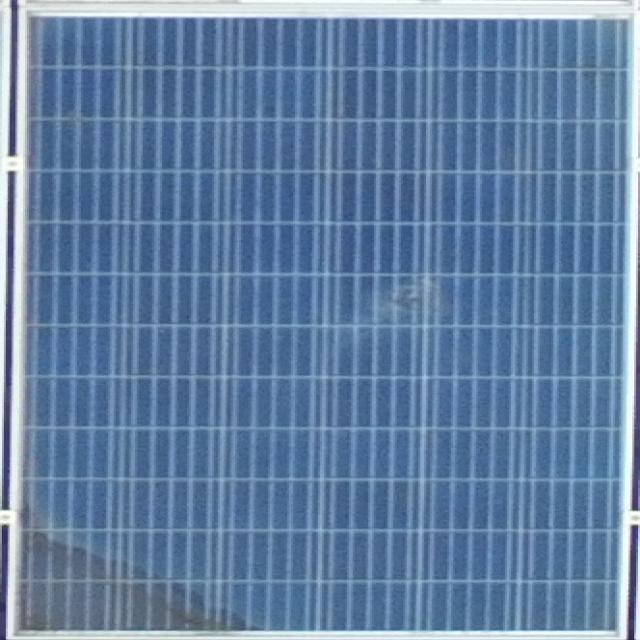Dust: (16, 502, 256, 632)
bird-droppings: (361, 278, 450, 318)
